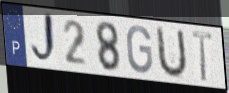2: (62, 19, 88, 68)
8: (93, 20, 121, 73)
G: (125, 25, 154, 76)
J: (29, 10, 59, 67)
T: (190, 29, 214, 84)
U: (155, 24, 189, 80)
